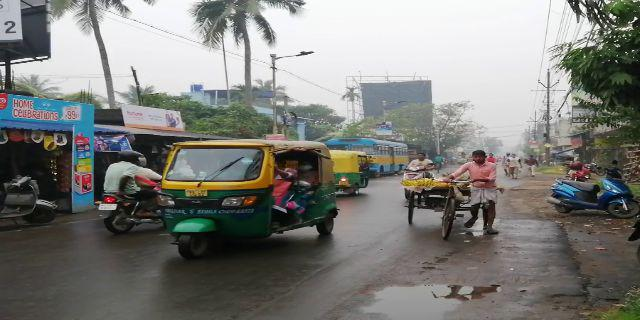Autorickshaw: (158, 138, 338, 245), (331, 149, 371, 197)
Cycle: (550, 178, 634, 219)
Motorbike: (91, 147, 164, 235)
Rickshaw: (403, 183, 497, 240)
